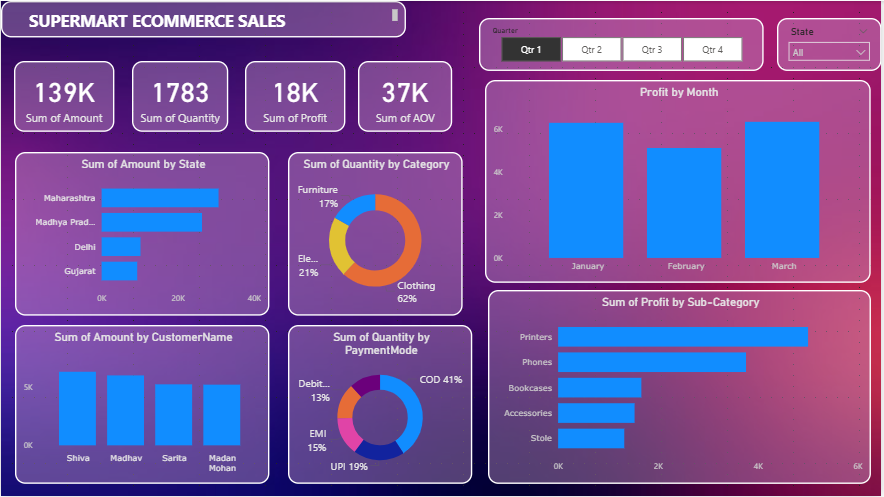

This screenshot's page, from the dashboard's own definition file:
{"tool":"powerbi","page":{"name":"Page 1","canvas":[1280,720],"ordinal":0},"visuals":[{"type":"textbox","box":[0,0,588.8,52.5],"z":0},{"type":"columnChart","title":"Profit by Month","fields":{"Category":["Orders.Order Date.Variation.Date Hierarchy.Month"],"Y":["Details.Profit"]},"box":[704.4,114.8,561.3,294.8],"z":1000},{"type":"barChart","fields":{"Category":["Details.Sub-Category"],"Y":["Details.Profit"]},"box":[708.7,420.9,557,282],"z":2000},{"type":"donutChart","fields":{"Y":["Details.Quantity"],"Category":["Details.PaymentMode"]},"box":[418.1,472,267.9,231],"z":3000},{"type":"donutChart","fields":{"Category":["Details.Category"],"Y":["Details.Quantity"]},"box":[418.1,219.7,253.7,238.1],"z":4000},{"type":"card","fields":{"Values":["Details.Amount"]},"box":[18.4,87.9,146,103.5],"z":5000},{"type":"card","fields":{"Values":["Details.Quantity"]},"box":[189.9,87.9,140.3,103.5],"z":6000},{"type":"card","fields":{"Values":["Details.Profit"]},"box":[354.3,87.9,146,103.5],"z":7000},{"type":"card","fields":{"Values":["Details.AOV"]},"box":[518.7,87.9,137.5,103.5],"z":8000},{"type":"barChart","fields":{"Category":["Orders.State"],"Y":["Details.Amount"]},"box":[19.8,219.7,369.9,238.1],"z":9000},{"type":"columnChart","fields":{"Category":["Orders.CustomerName"],"Y":["Details.Amount"]},"box":[19.8,472,369.9,231],"z":10000},{"type":"slicer","fields":{"Values":["Orders.Order Date.Variation.Date Hierarchy.Quarter"]},"box":[695.9,24.1,413.9,76.5],"z":11000},{"type":"slicer","fields":{"Values":["Orders.State"]},"box":[1128.2,24.1,151.7,76.5],"z":11001}]}

Visuals, with their boxes in screenshot pixels (x1, y1, x2, y2), scaled from the page's 1280x720 canvas onto the 884x497 screenshot:
textbox: 0 0 407 36
"Profit by Month" columnChart: 486 79 874 283
barChart - Details.Sub-Category x Details.Profit: 489 291 874 485
donutChart - Details.Quantity x Details.PaymentMode: 289 326 474 485
donutChart - Details.Category x Details.Quantity: 289 152 464 316
card - Details.Amount: 13 61 114 132
card - Details.Quantity: 131 61 228 132
card - Details.Profit: 245 61 346 132
card - Details.AOV: 358 61 453 132
barChart - Orders.State x Details.Amount: 14 152 269 316
columnChart - Orders.CustomerName x Details.Amount: 14 326 269 485
slicer - Orders.Order Date.Variation.Date Hierarchy.Quarter: 481 17 766 69
slicer - Orders.State: 779 17 883 69
